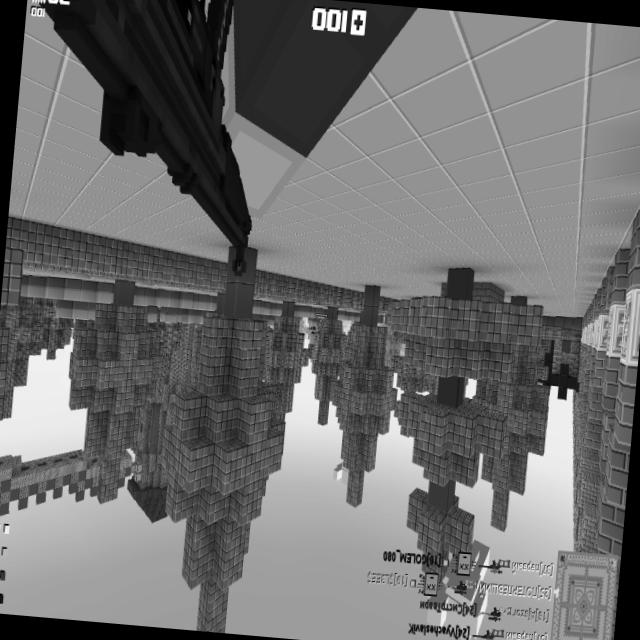enemy: (308, 326, 315, 335)
